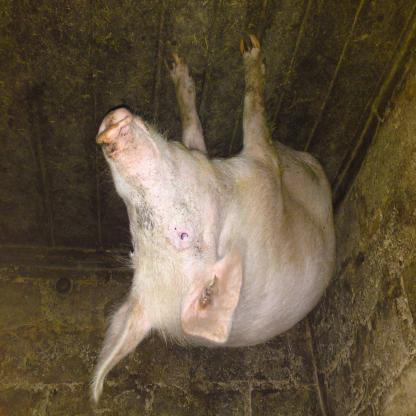boar: (89, 33, 338, 411)
